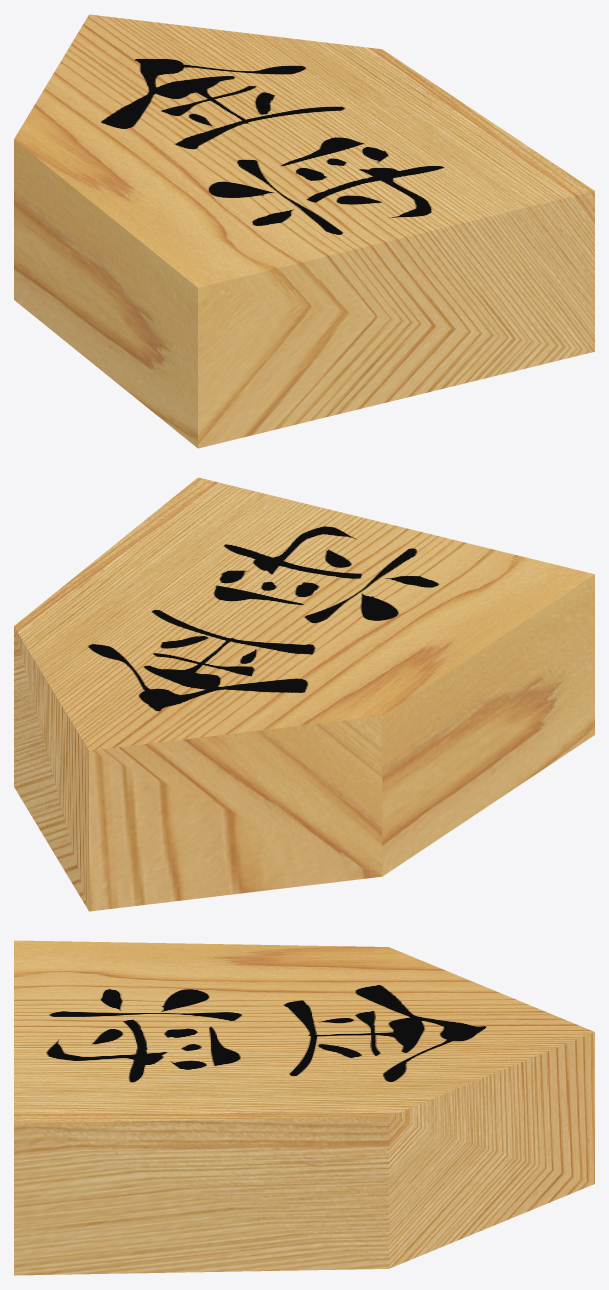
The model's file is koma_kin.gltf.
3 views of the same model, one above another, from view 1: azimuth 30°, elevation 25°; view 2: azimuth 150°, elevation 25°; view 3: azimuth 270°, elevation 25° (orthographic). The views are drawn at different scales.
Visible parts, largest first — view 1: Cylinder; view 2: Cylinder; view 3: Cylinder.
Boxes of the visible parts, box(x1,y1,x2,y2) form: Cylinder: box(14, 14, 594, 448); Cylinder: box(14, 477, 594, 911); Cylinder: box(14, 940, 594, 1275).
Size of the model in its own units: 1.29 by 0.5 by 1.73.
Materials: 1 (1 with a texture image).
